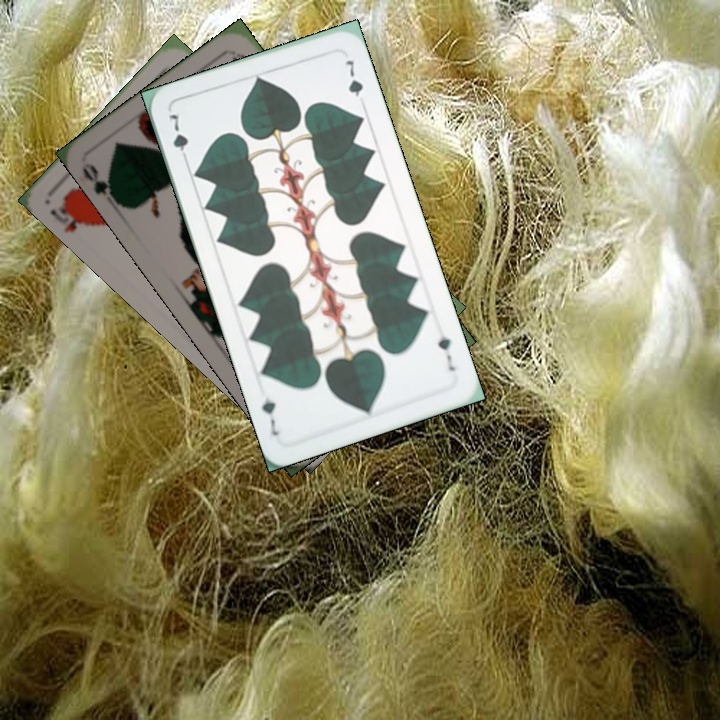G7: (165, 110, 192, 165), (433, 331, 458, 374)
GO: (78, 159, 125, 208)
HO: (46, 194, 96, 235)
